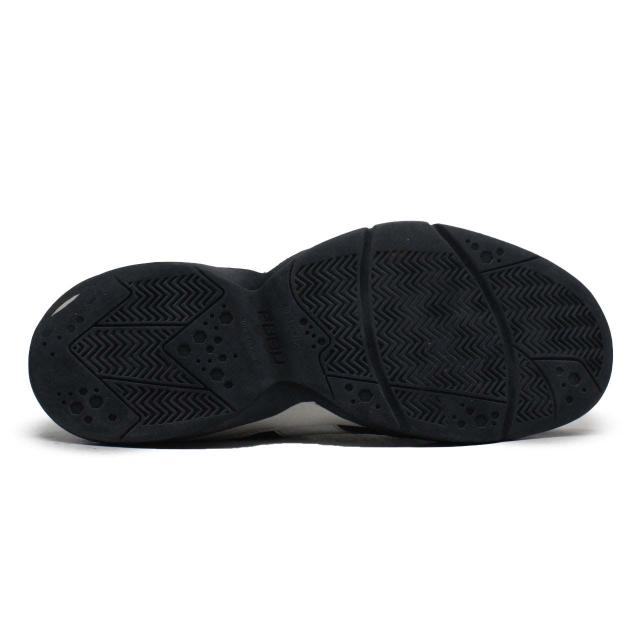outersole: (24, 222, 612, 445)
